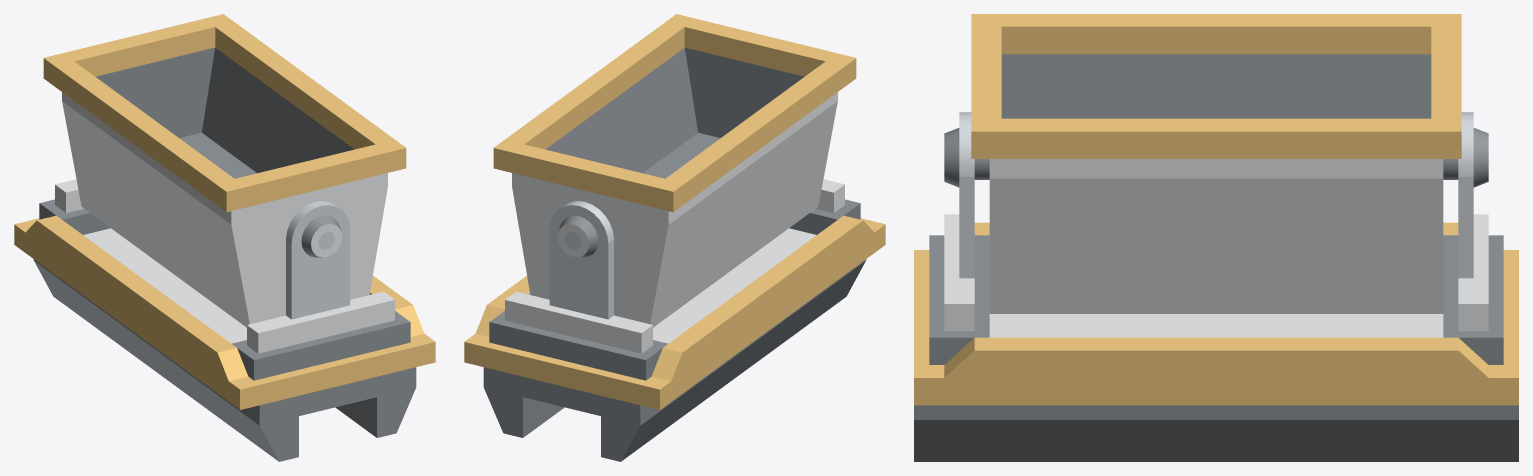
Rendered from monorail_trainCargo.glb.
3 views of the same model, side by side, from view 1: azimuth 30°, elevation 25°; view 2: azimuth 150°, elevation 25°; view 3: azimuth 270°, elevation 25° (orthographic). The views are drawn at different scales.
Parts seen in each view (by area): view 1: monorail_trainCargo; view 2: monorail_trainCargo; view 3: monorail_trainCargo.
Part boxes in pixels (box(x1,y1,x2,y2)): monorail_trainCargo: box(14, 14, 435, 461); monorail_trainCargo: box(464, 14, 885, 461); monorail_trainCargo: box(914, 14, 1518, 461).
Bounding box in the file's own units: 0.5001 × 0.64 × 1.
Materials: 1 (1 with a texture image).
